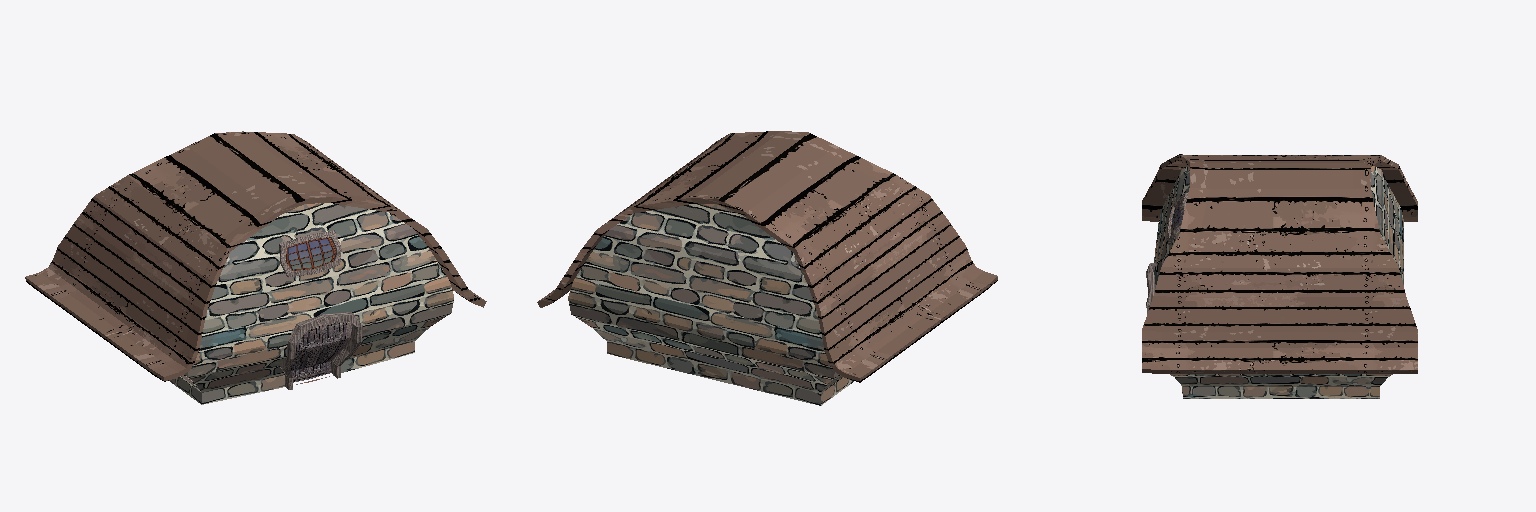
3 views of the same model, side by side, from view 1: azimuth 30°, elevation 25°; view 2: azimuth 150°, elevation 25°; view 3: azimuth 270°, elevation 25° (orthographic).
Visible parts, largest first — view 1: house6; view 2: house6; view 3: house6.
Part boxes in pixels (x1,y1,x2,y2): house6: (25,131,486,404); house6: (537,131,997,405); house6: (1142,154,1417,398).
Size of the model in its own units: 25.75 by 13.59 by 19.09.
Materials: 5 (5 with a texture image).